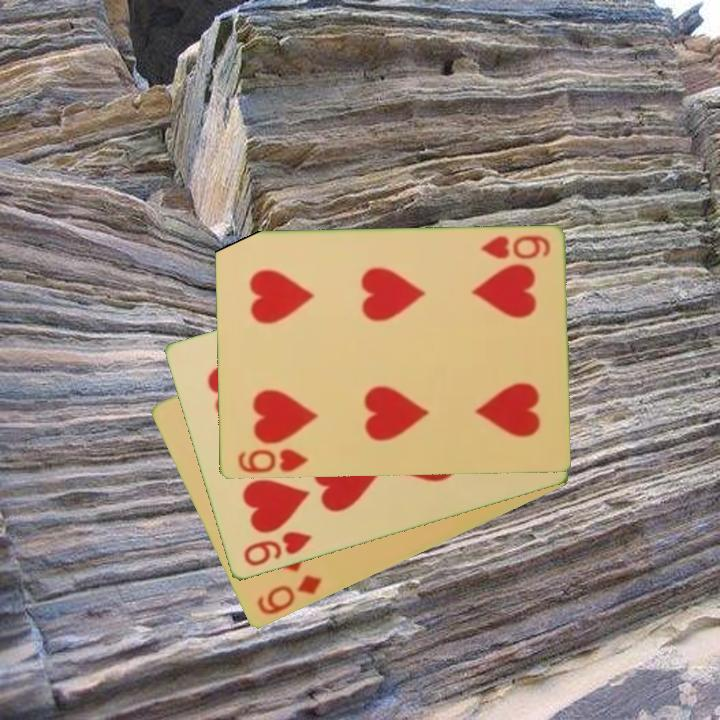6d: (253, 572, 325, 619)
6h: (476, 232, 553, 263), (234, 446, 311, 475)
9h: (240, 528, 314, 570)
